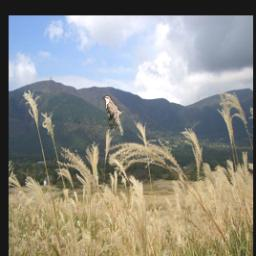Cuckoo: (102, 95, 123, 136)
